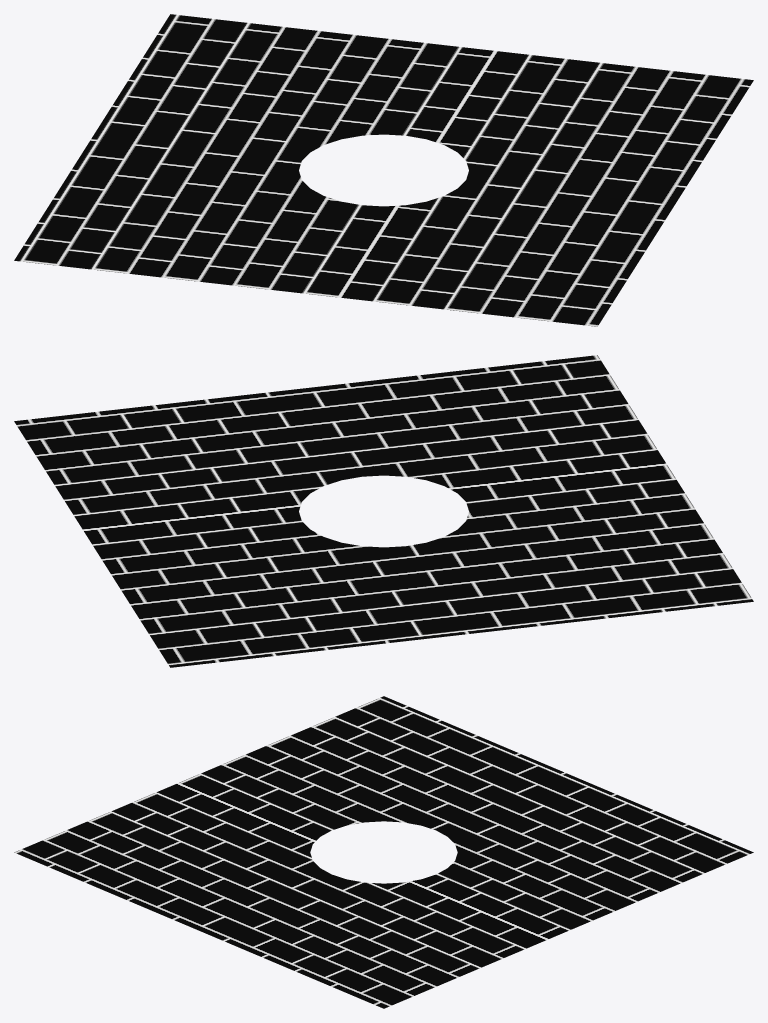
File: VRShoot_Floor0.fbx
3 views of the same model, one above another, from view 1: azimuth 30°, elevation 25°; view 2: azimuth 150°, elevation 25°; view 3: azimuth 270°, elevation 25° (orthographic). The views are drawn at different scales.
Visible parts, largest first — view 1: SquareFloor; view 2: SquareFloor; view 3: SquareFloor.
Part boxes in pixels (x1,y1,x2,y2): SquareFloor: (14,14,753,326); SquareFloor: (14,355,753,667); SquareFloor: (14,696,753,1008).
Size of the model in its own units: 233 by 0 by 233.
